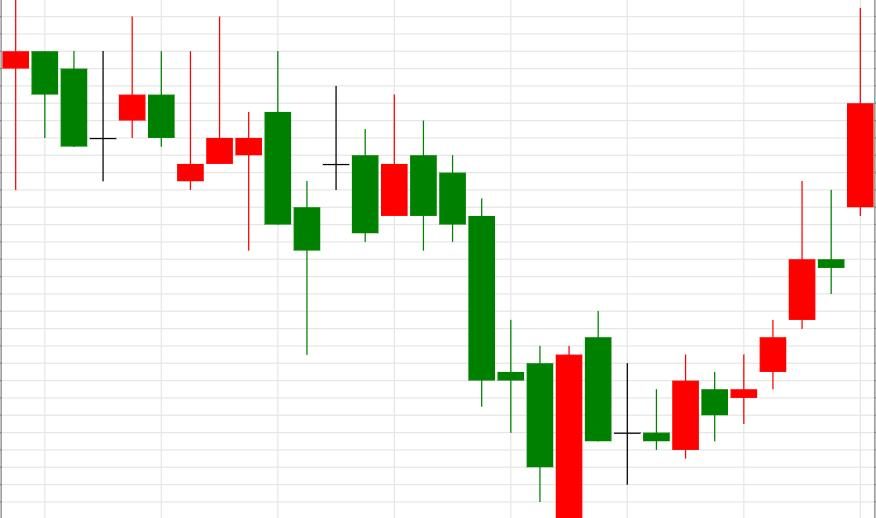bullish_engulfing_rise: (382, 93, 583, 518)
